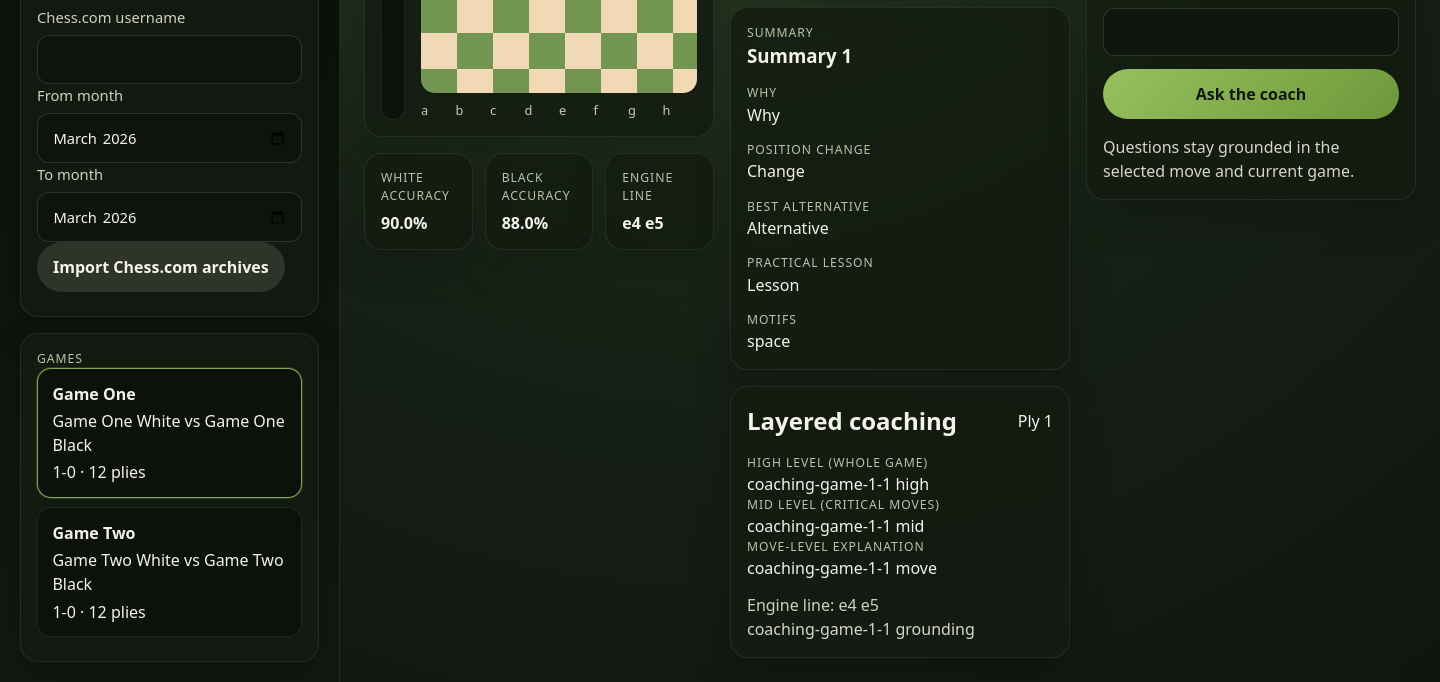
it: App coaching requests › ignores stale coaching responses after switching games
(page scrolled)
Expected: the text "coaching-game-1-1 move" is shown, [747, 557, 937, 579]
Click the button "Game Two Game Two White vs Game Two Black 1-0 · 12 plies": point(170, 572) [37, 507, 302, 637]
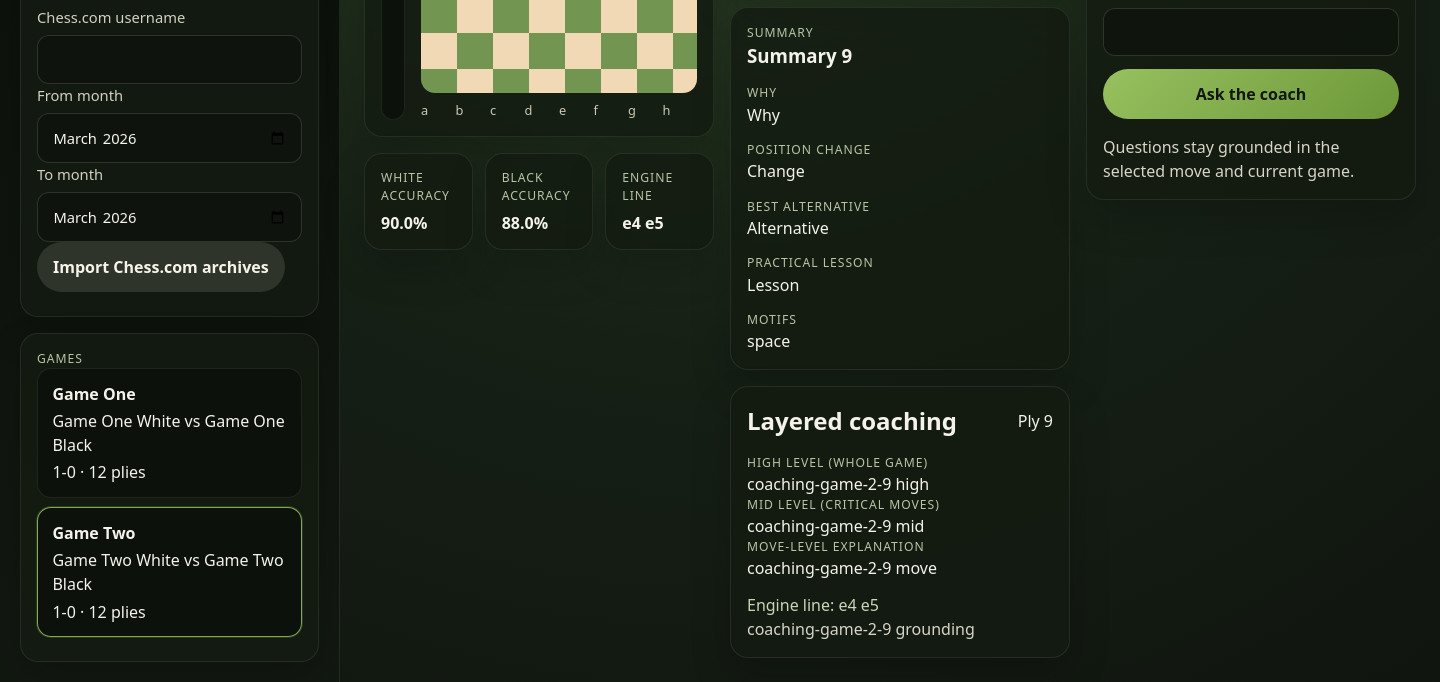
Result: the text "coaching-game-2-9 move" is shown at [747, 557, 937, 579]
